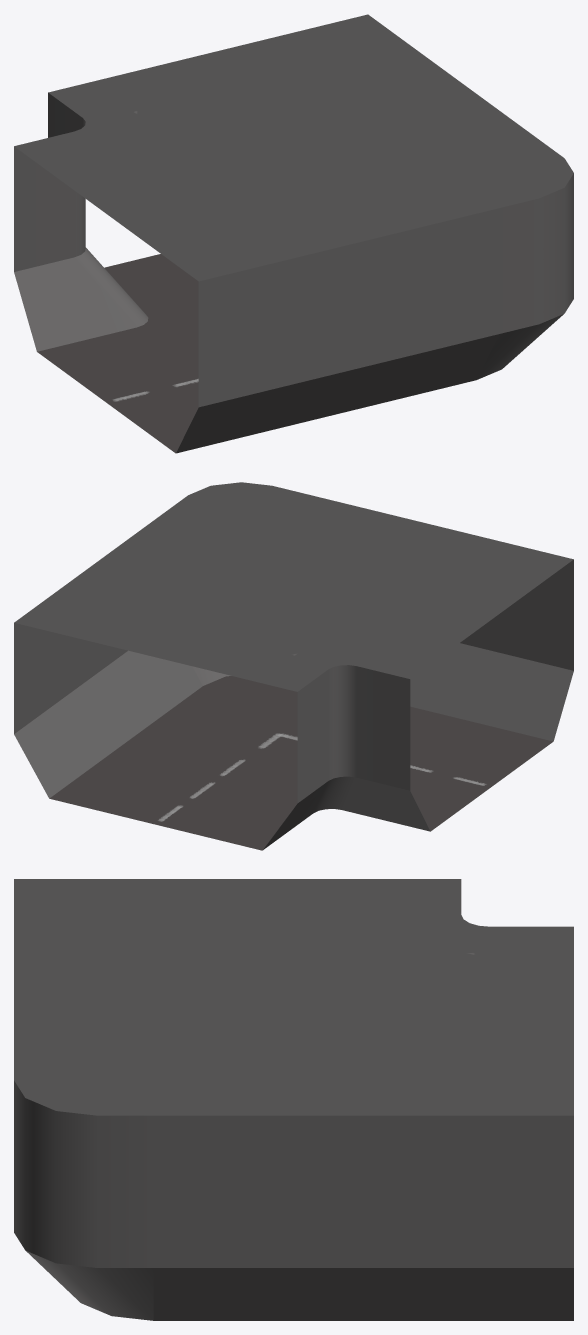
Rendered from blochttunnel.fbx.
The picture shows the model from 3 angles, top to bottom: view 1: azimuth 30°, elevation 25°; view 2: azimuth 150°, elevation 25°; view 3: azimuth 270°, elevation 25°; orthographic projection. The views are drawn at different scales.
Visible parts, largest first — view 1: bochttunnel; view 2: bochttunnel; view 3: bochttunnel.
Part boxes in pixels (bbox=[...]): bochttunnel: bbox=[14, 14, 573, 453]; bochttunnel: bbox=[14, 482, 573, 850]; bochttunnel: bbox=[14, 879, 573, 1320].
Bounding box in the file's own units: 19.06 × 8.58 × 19.06.
